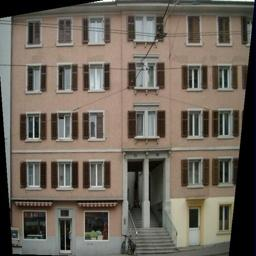building: (12, 0, 248, 238)
